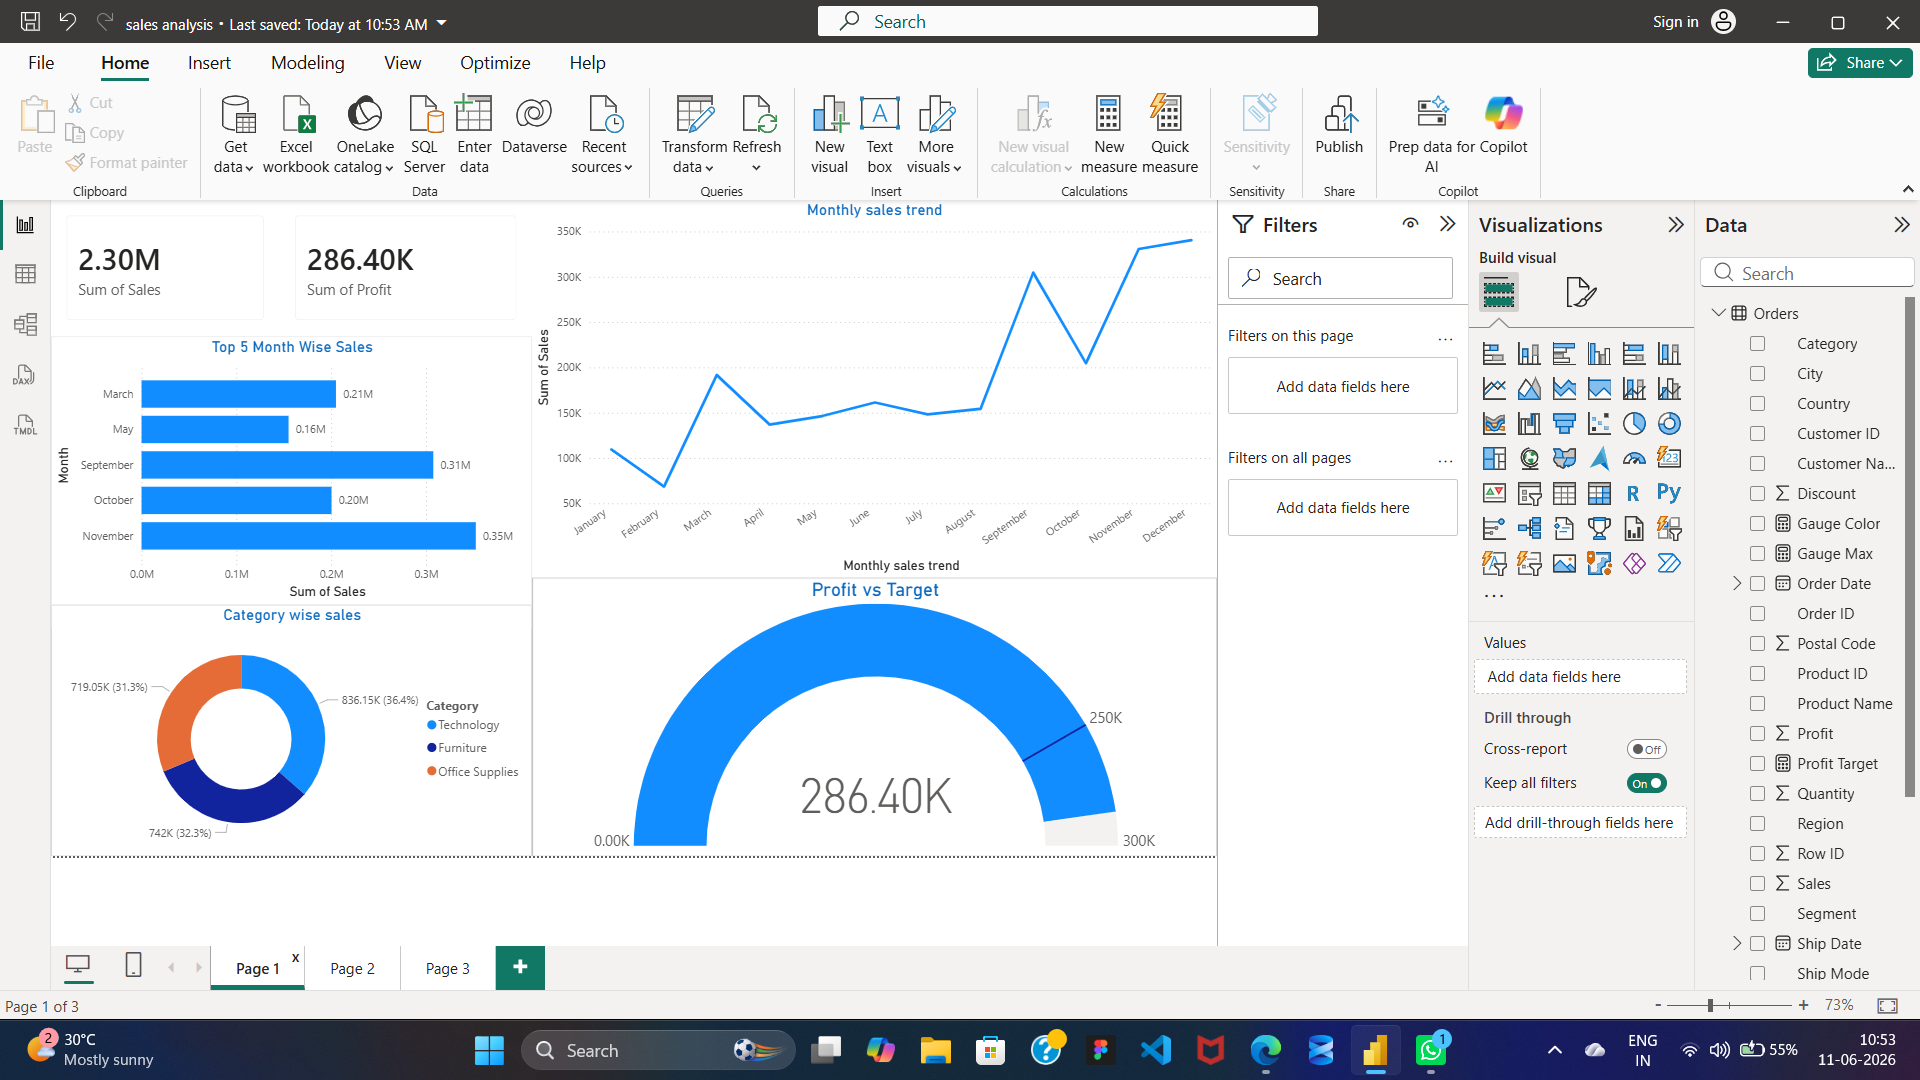

The page's visual inventory and layout, read from the dashboard file:
{"tool":"powerbi","page":{"name":"Page 1","canvas":[1280,720],"ordinal":0},"visuals":[{"type":"donutChart","title":"Category wise sales","fields":{"Category":["Orders.Category"],"Y":["Sum(Orders.Sales)"]},"box":[0,444.6,528.3,275.8],"z":0},{"type":"barChart","title":"Top 5 Month Wise Sales","fields":{"Y":["Sum(Orders.Sales)"],"Category":["Orders.Order Date.Variation.Date Hierarchy.Year","Orders.Order Date.Variation.Date Hierarchy.Quarter","Orders.Order Date.Variation.Date Hierarchy.Month","Orders.Order Date.Variation.Date Hierarchy.Day"]},"box":[0,149.6,528.3,295],"z":1000},{"type":"gauge","title":"Profit vs Target","fields":{"Y":["Orders.Total Profit"],"TargetValue":["Orders.Profit Target"],"MaxValue":["Orders.Gauge Max"]},"box":[528.3,414.4,752,306],"z":2000},{"type":"lineChart","title":"Monthly sales trend","fields":{"Category":["Orders$FilterDatabase.Ship Date.Variation.Date Hierarchy.Month"],"Y":["Sum(Orders$FilterDatabase.Sales)"]},"box":[528.3,0,752,414.4],"z":3000},{"type":"cardVisual","fields":{"Data":["Sum(Orders.Sales)"]},"box":[0,0,251.1,149.6],"z":4000},{"type":"cardVisual","fields":{"Data":["Sum(Orders.Profit)"]},"box":[251.1,0,277.2,149.6],"z":5000}]}

Visuals, with their boxes on the page's 1280x720 design canvas (x1, y1, x2, y2). These are canvas units, not pixel positions in the 1920x1080 screenshot, which may show the page scaled, cropped or inside an application window:
"Category wise sales" donutChart: {"x1": 0, "y1": 445, "x2": 528, "y2": 720}
"Top 5 Month Wise Sales" barChart: {"x1": 0, "y1": 150, "x2": 528, "y2": 445}
"Profit vs Target" gauge: {"x1": 528, "y1": 414, "x2": 1280, "y2": 720}
"Monthly sales trend" lineChart: {"x1": 528, "y1": 0, "x2": 1280, "y2": 414}
cardVisual - Sum(Orders.Sales): {"x1": 0, "y1": 0, "x2": 251, "y2": 150}
cardVisual - Sum(Orders.Profit): {"x1": 251, "y1": 0, "x2": 528, "y2": 150}
